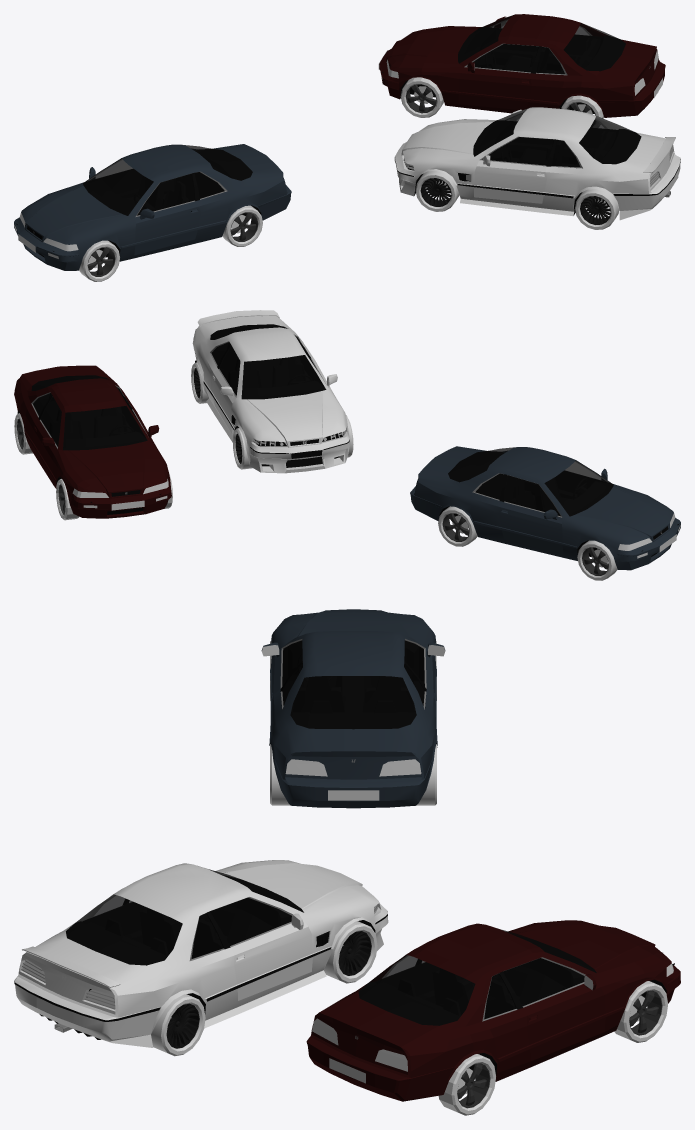
File: legend.obj
3 renders of one model, top to bottom at view 1: azimuth 30°, elevation 25°; view 2: azimuth 150°, elevation 25°; view 3: azimuth 270°, elevation 25°, orthographic. The views are drawn at different scales.
Visible parts, largest first — view 1: Legend_tuned_Cube.089, Legend_Cube.040, Legend_flat_Cube.082, legend_interior.001_Cube.084, legend_interior.002_Cube.091, legend_interior_Cube.042, legend_wheels.002_Cube.094, legend_rims.002_Cylinder.028, legend_wheels_Cube.045, legend_rims_Cylinder.011, legend_wheels.001_Cube.087, legend_front_seats_Cube.041 (+6 smaller); view 2: Legend_Cube.040, Legend_tuned_Cube.089, Legend_flat_Cube.082, legend_interior_Cube.042, legend_interior.002_Cube.091, legend_interior.001_Cube.084, legend_front_seats.001_Cube.083, legend_front_seats.002_Cube.090, legend_wheels_Cube.045, legend_rims_Cylinder.011, legend_front_seats_Cube.041, legend_rear_seats.002_Cube.093 (+5 smaller); view 3: Legend_tuned_Cube.089, Legend_flat_Cube.082, Legend_Cube.040, legend_interior.001_Cube.084, legend_interior.002_Cube.091, legend_interior_Cube.042, legend_wheels.002_Cube.094, legend_front_seats_Cube.041, legend_wheels.001_Cube.087, legend_rims.002_Cylinder.028, legend_rims.001_Cylinder.026, legend_front_seats.001_Cube.083 (+6 smaller).
Part boxes in pixels (x1,y1,x2,y2): Legend_tuned_Cube.089: (394, 107, 680, 220); Legend_Cube.040: (14, 144, 291, 270); Legend_flat_Cube.082: (379, 14, 665, 117); legend_interior.001_Cube.084: (458, 27, 625, 75); legend_interior.002_Cube.091: (473, 120, 641, 168); legend_interior_Cube.042: (83, 149, 252, 215); legend_wheels.002_Cube.094: (415, 171, 619, 229); legend_rims.002_Cylinder.028: (420, 178, 610, 224); legend_wheels_Cube.045: (79, 205, 262, 281); legend_rims_Cylinder.011: (87, 212, 258, 276); legend_wheels.001_Cube.087: (400, 77, 603, 127); legend_front_seats_Cube.041: (124, 176, 188, 211); Legend_Cube.040: (410, 446, 680, 570); Legend_tuned_Cube.089: (192, 315, 350, 473); Legend_flat_Cube.082: (14, 365, 171, 518); legend_interior_Cube.042: (448, 451, 613, 516); legend_interior.002_Cube.091: (210, 324, 325, 399); legend_interior.001_Cube.084: (31, 375, 147, 450); legend_front_seats.001_Cube.083: (49, 407, 127, 446); legend_front_seats.002_Cube.090: (228, 356, 305, 395); legend_wheels_Cube.045: (438, 506, 617, 580); legend_rims_Cylinder.011: (442, 513, 608, 575); legend_front_seats_Cube.041: (510, 477, 572, 511); legend_rear_seats.002_Cube.093: (212, 342, 296, 387); Legend_tuned_Cube.089: (14, 860, 388, 1047); Legend_flat_Cube.082: (306, 920, 680, 1101); Legend_Cube.040: (269, 609, 437, 808); legend_interior.001_Cube.084: (358, 935, 596, 1025); legend_interior.002_Cube.091: (66, 874, 303, 965); legend_interior_Cube.042: (281, 640, 425, 729); legend_wheels.002_Cube.094: (151, 921, 377, 1056); legend_front_seats_Cube.041: (292, 676, 414, 712); legend_wheels.001_Cube.087: (438, 981, 667, 1115); legend_rims.002_Cylinder.028: (166, 931, 371, 1048); legend_rims.001_Cylinder.026: (457, 990, 662, 1108); legend_front_seats.001_Cube.083: (432, 968, 525, 1018).
Size of the model in its own units: 12.94 by 1.51 by 7.75.
